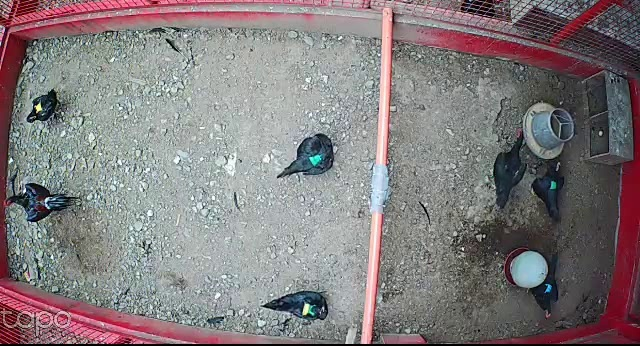Chicken: (492, 127, 532, 211), (275, 134, 334, 181), (525, 252, 563, 320), (259, 290, 330, 323), (531, 159, 566, 222), (27, 86, 65, 128)
Drinker: (504, 246, 548, 288)
Rooster: (2, 174, 76, 224)
Saddle_Color_Blue: (542, 284, 552, 294)
Saddle_Color_Yellow: (33, 101, 43, 116)
Saddle_Color_YellowGreen: (300, 301, 318, 319)
